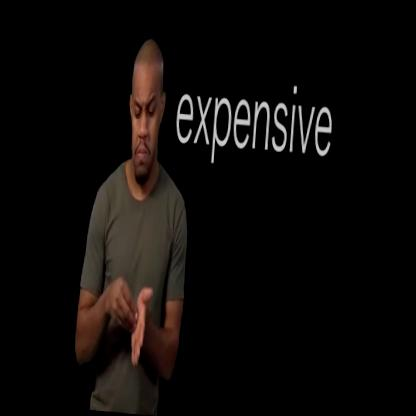Expensive: (97, 249, 162, 385)
